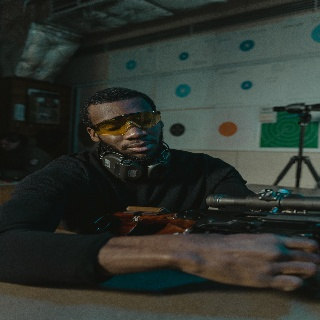rifle: (95, 187, 320, 245)
